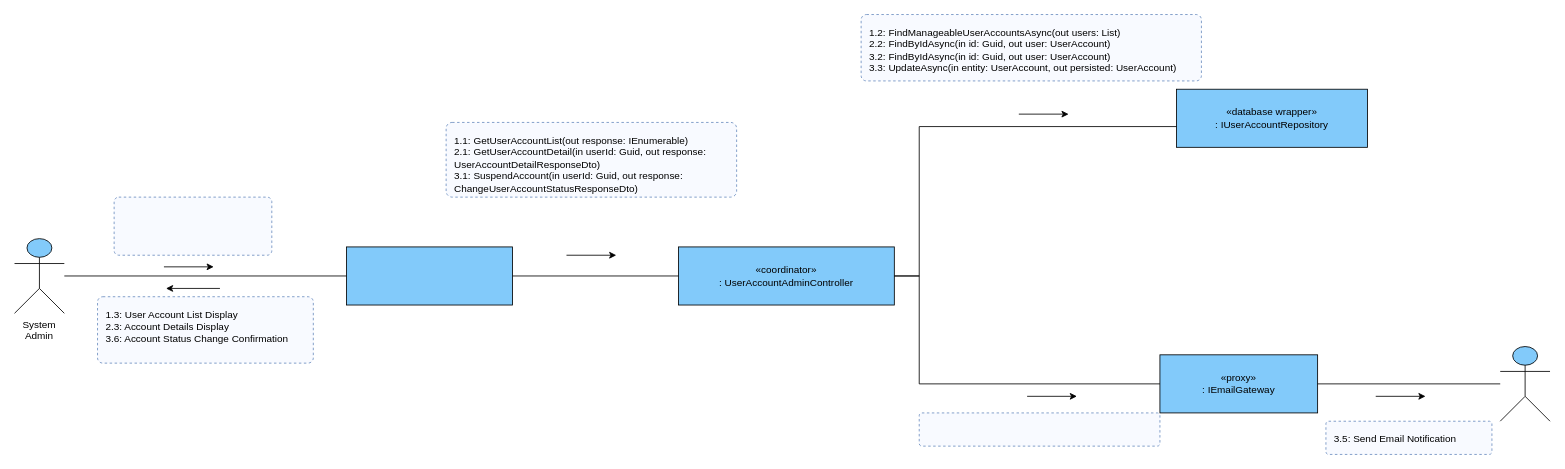
Some shapes in this 1565 by 469 pixel diagram are drawn without their labels. The shapes that lost their labels are listed below. From the top down, each one's centre as x and y in pixels, then its label:
At (x=192, y=225): "1: Account Management Access 2: User Account Selection 3: Status Change Decision".
At (x=429, y=275): "«user interaction» : AdminUI".
At (x=1524, y=383): "Email Provider".
At (x=1039, y=429): "3.4: SendAsync(in notification: EmailMessage)".
